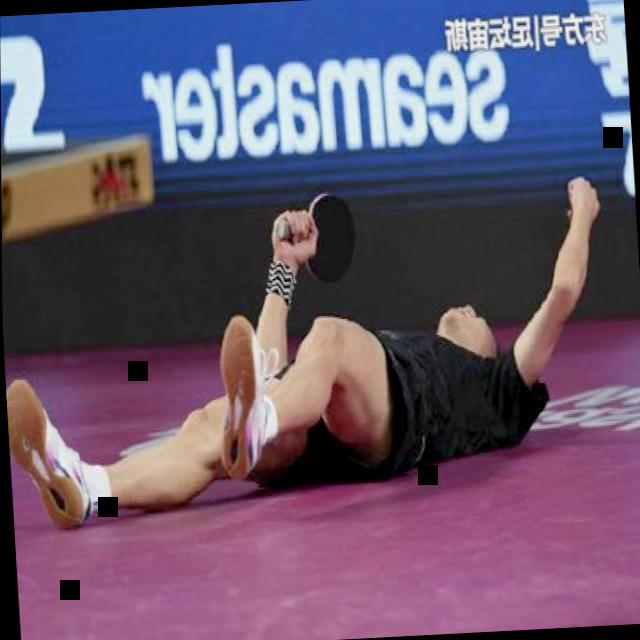Fall-Detected: (1, 157, 640, 529)
